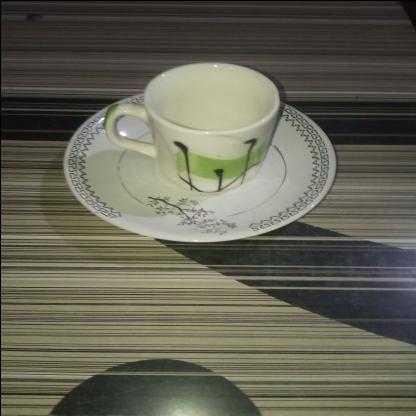cup: (103, 60, 285, 198)
